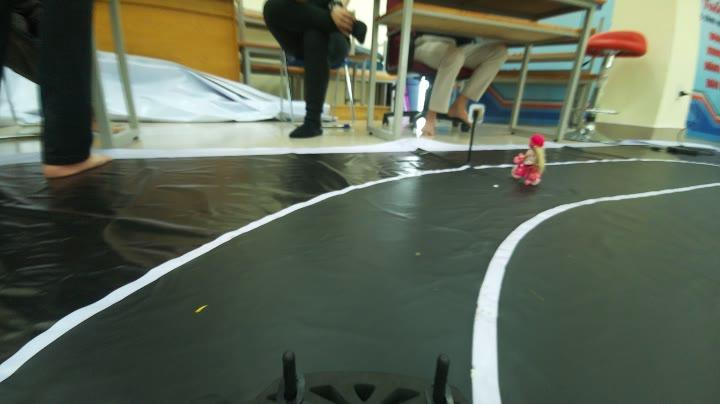pedestrian: (510, 132, 548, 190)
